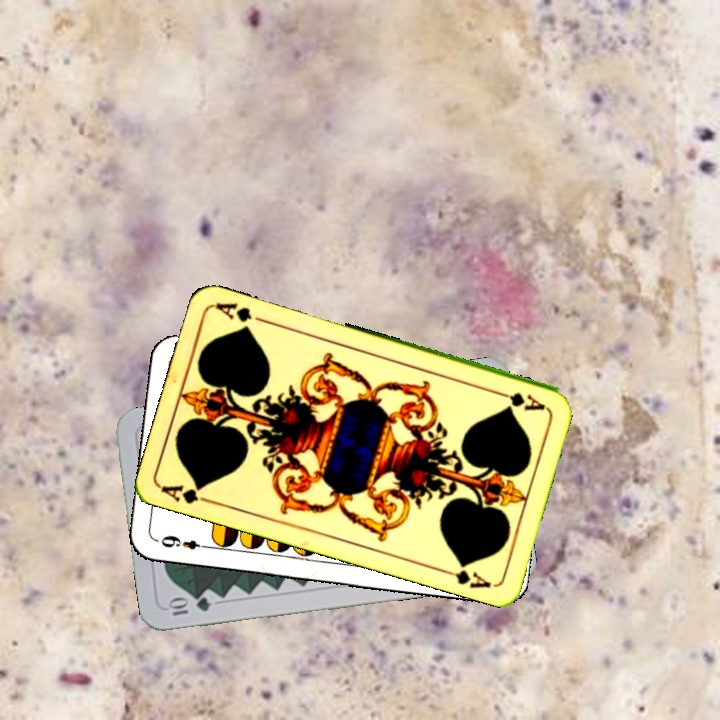E9: (157, 531, 213, 553)
G10: (164, 593, 214, 618)
GA: (159, 480, 217, 507), (490, 386, 548, 413)
